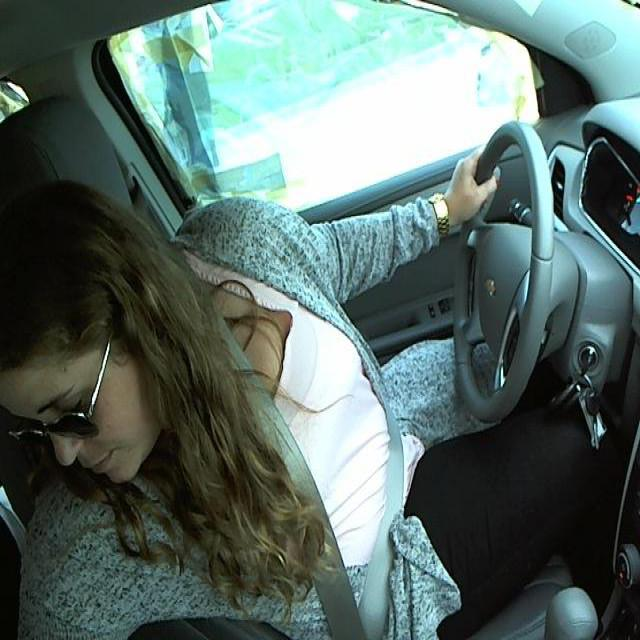seatbelt: (187, 304, 402, 639)
